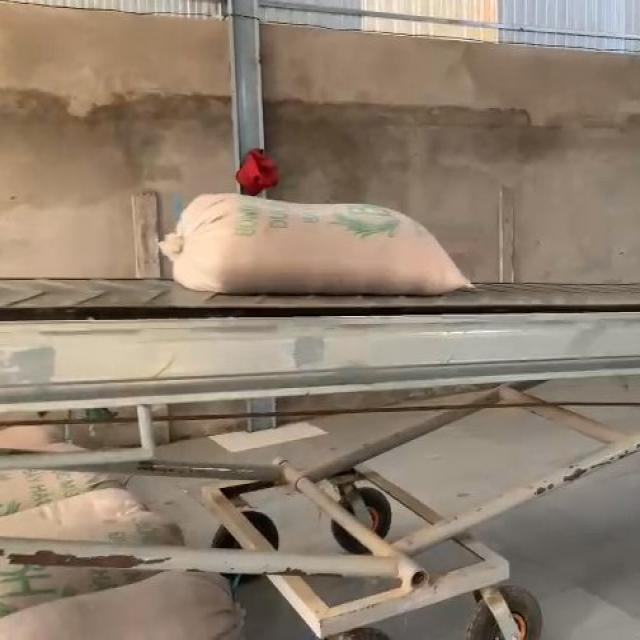gunny_bag: (160, 193, 471, 295)
